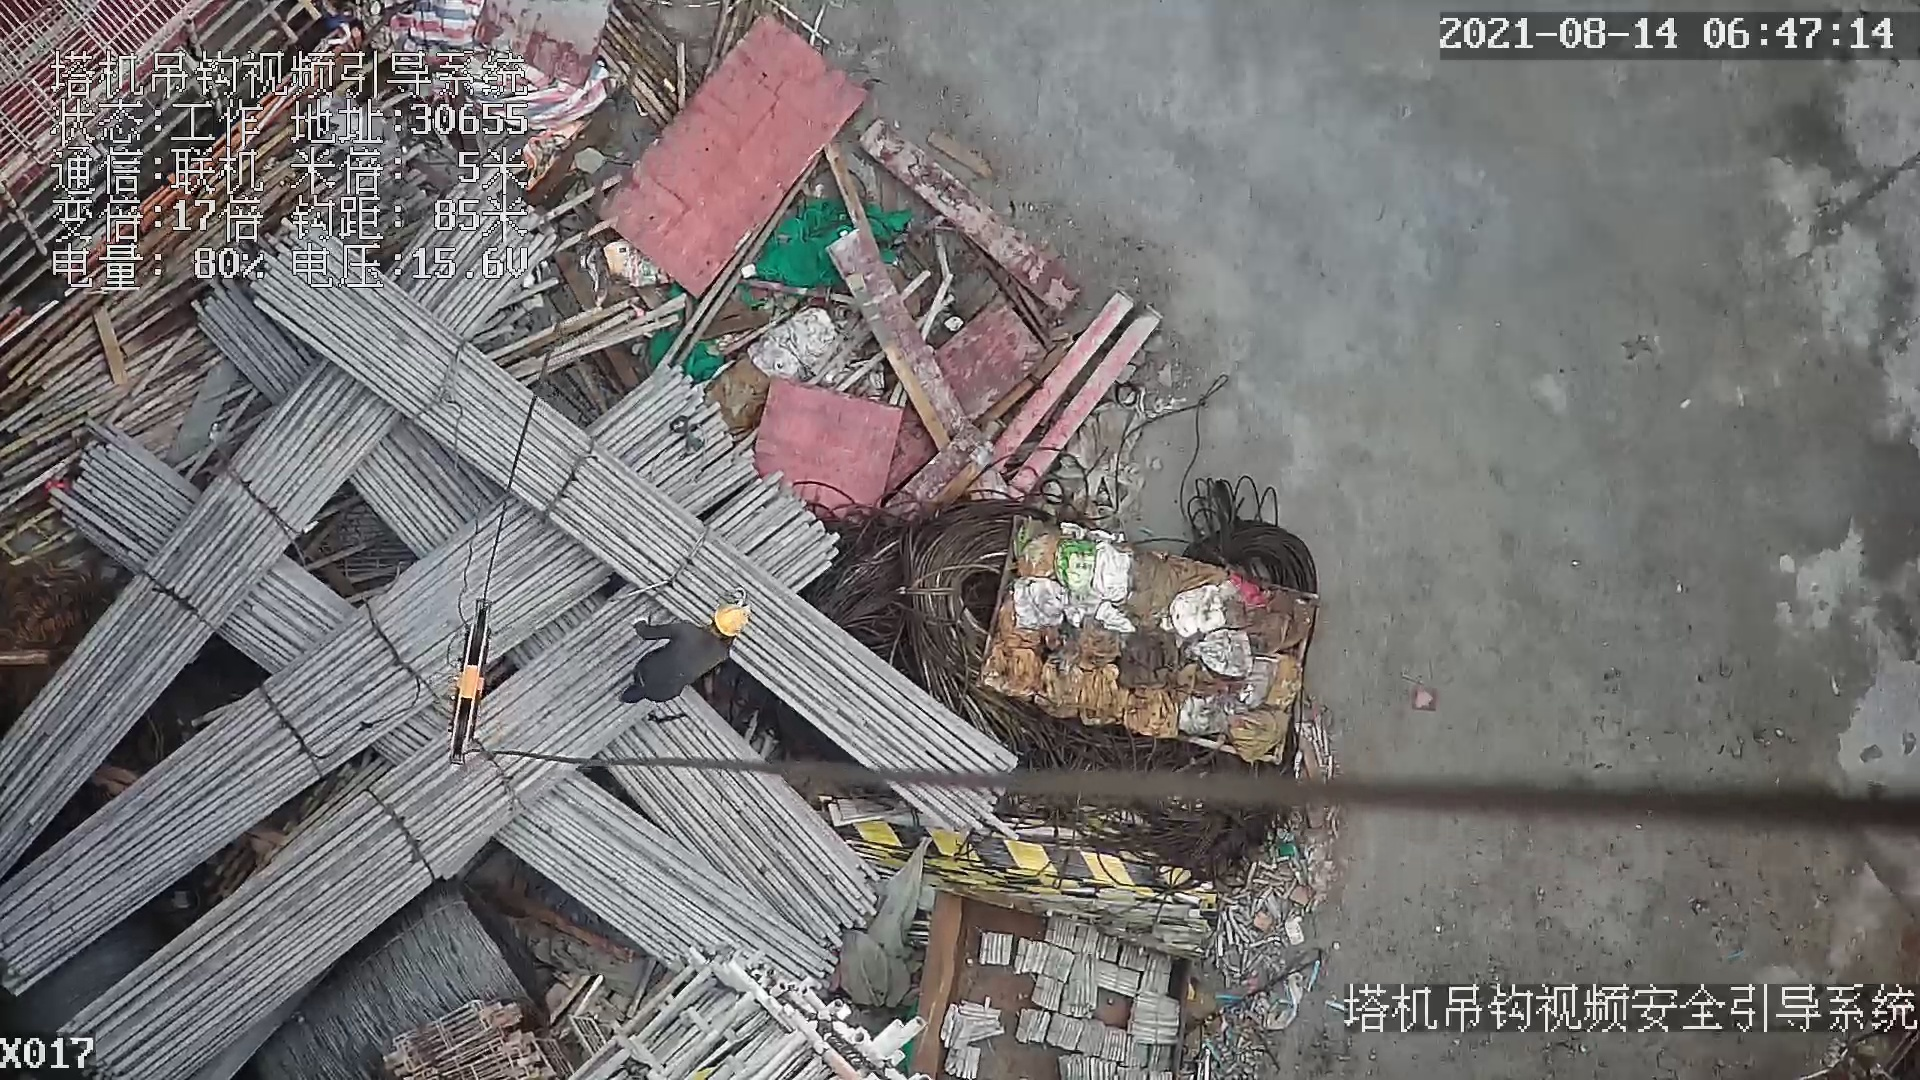board: (584, 4, 869, 302)
helmet: (711, 601, 744, 641)
hook: (447, 586, 496, 773)
person: (617, 587, 750, 713)
